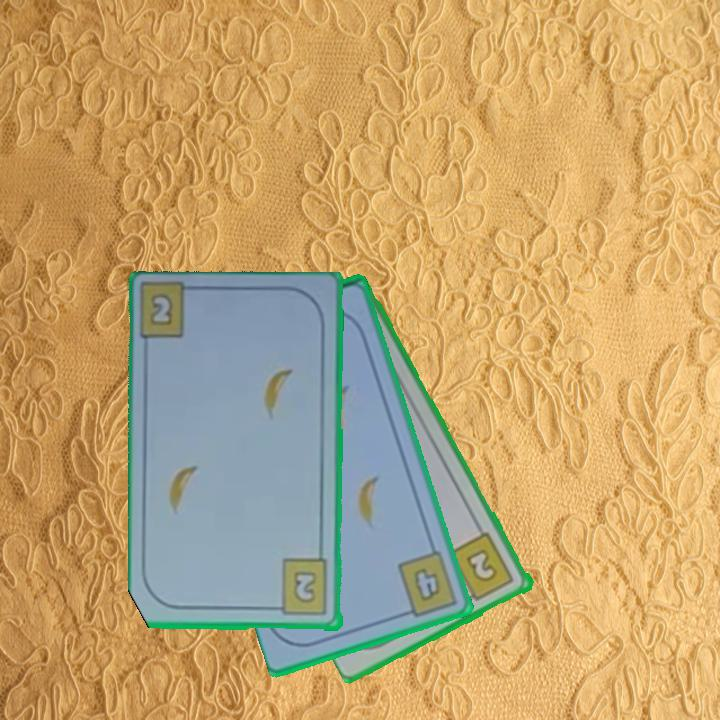2b: (446, 529, 517, 605), (269, 557, 331, 618), (147, 289, 176, 330)
4b: (394, 547, 461, 620)
